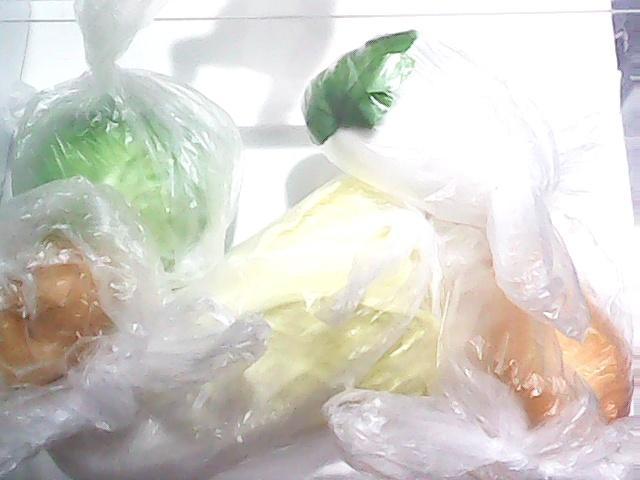cabbage: (0, 61, 244, 285)
mango: (472, 190, 630, 442)
napa cabbage: (39, 124, 434, 480)
potato: (0, 244, 122, 392)
radish: (304, 26, 556, 228)
